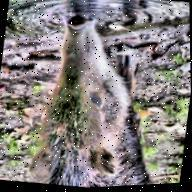boar: (12, 2, 173, 191)
